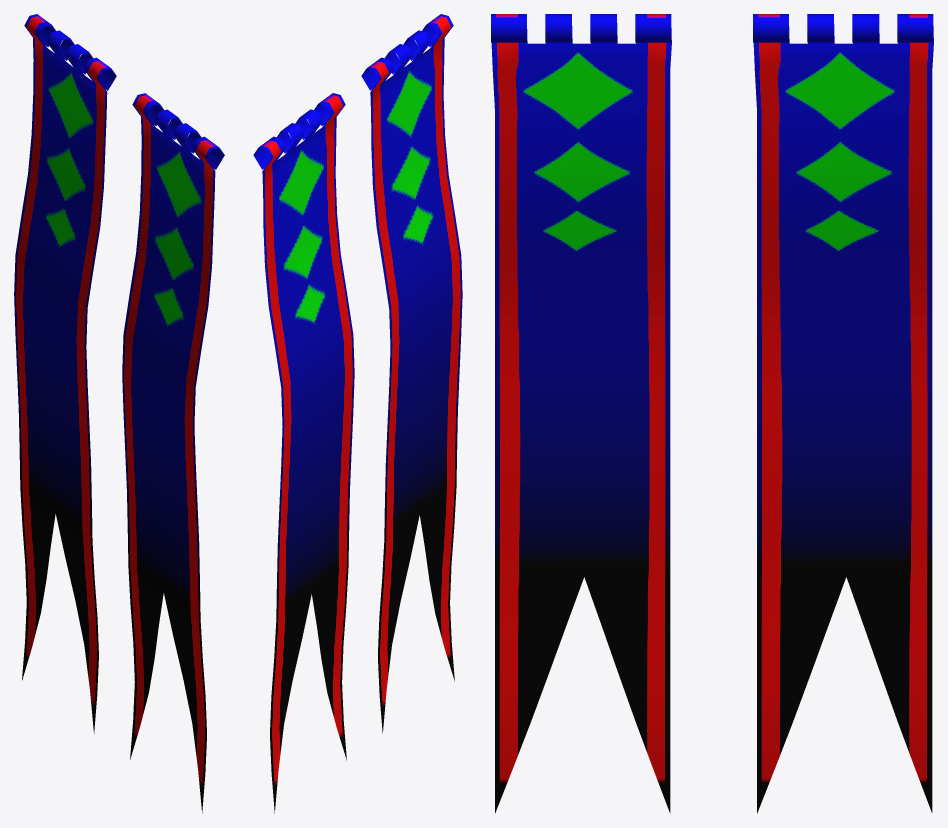
Rendered from SM_Flag_v3.fbx.
3 renders of one model, left to right at view 1: azimuth 30°, elevation 25°; view 2: azimuth 150°, elevation 25°; view 3: azimuth 270°, elevation 25°, orthographic. The views are drawn at different scales.
Parts seen in each view (by area): view 1: SM_Flag_v3_LOD0; view 2: SM_Flag_v3_LOD0; view 3: SM_Flag_v3_LOD0.
Boxes of the visible parts, x1=… form: SM_Flag_v3_LOD0: x1=14, y1=14, x2=224, y2=813; SM_Flag_v3_LOD0: x1=253, y1=14, x2=462, y2=813; SM_Flag_v3_LOD0: x1=491, y1=14, x2=933, y2=813.
Size of the model in its own units: 9.25 by 101 by 203.
Materials: 1 (1 with a texture image).
